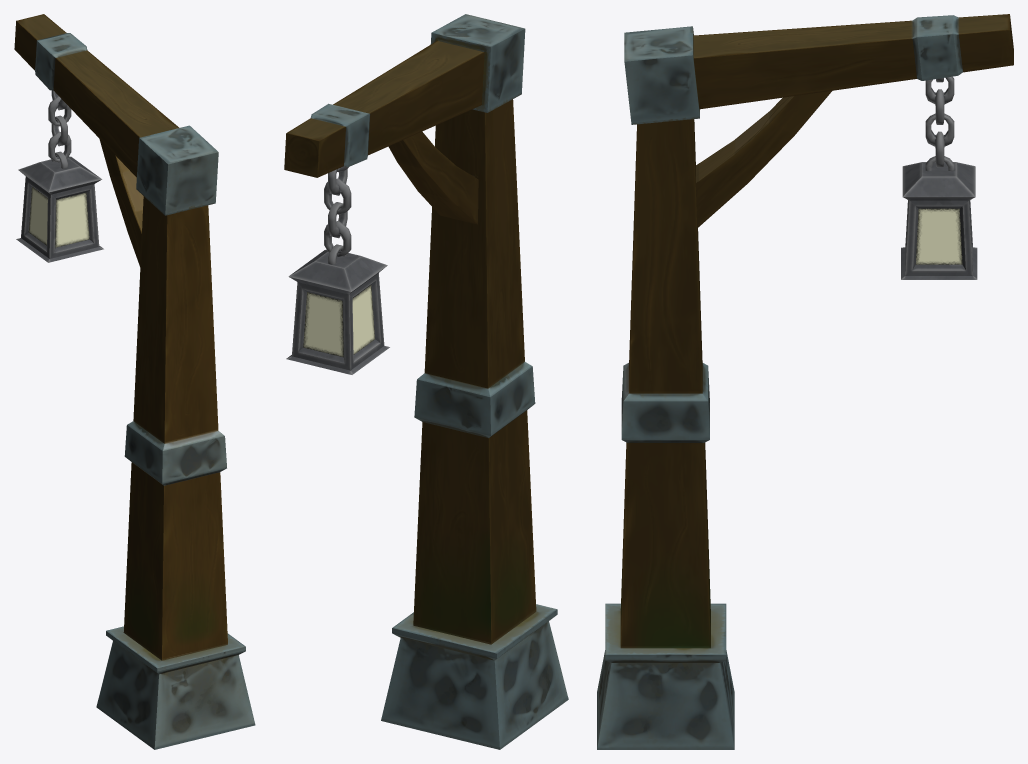
The model's file is lamp_post.obj.
3 renders of one model, left to right at view 1: azimuth 30°, elevation 25°; view 2: azimuth 150°, elevation 25°; view 3: azimuth 270°, elevation 25°, orthographic. The views are drawn at different scales.
Visible parts, largest first — view 1: Pole, Lamp; view 2: Pole, Lamp; view 3: Pole, Lamp.
Part boxes in pixels (box(x1,y1,x2,y2)): Pole: box(14, 14, 255, 749); Lamp: box(16, 90, 103, 262); Pole: box(284, 14, 568, 749); Lamp: box(286, 166, 389, 374); Pole: box(597, 14, 1013, 749); Lamp: box(901, 76, 977, 279).
Size of the model in its own units: 1.27 by 7.12 by 3.85.
2 materials, 2 textured.
